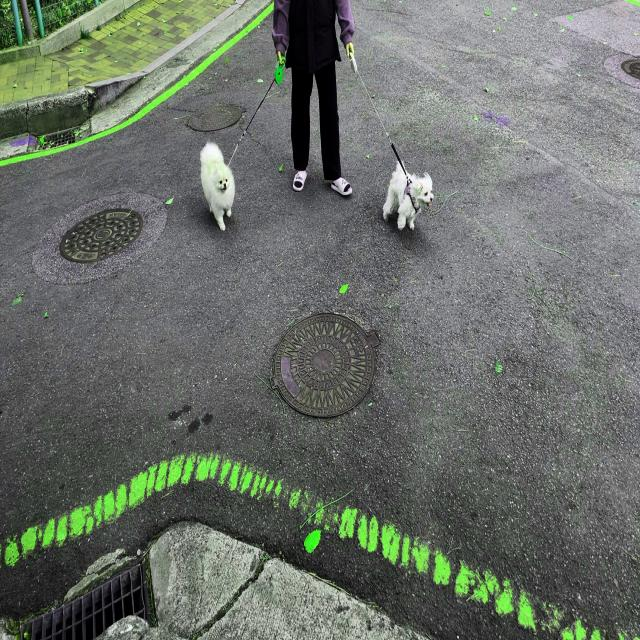Leashed_Dog: (318, 39, 434, 231), (200, 41, 304, 232)
